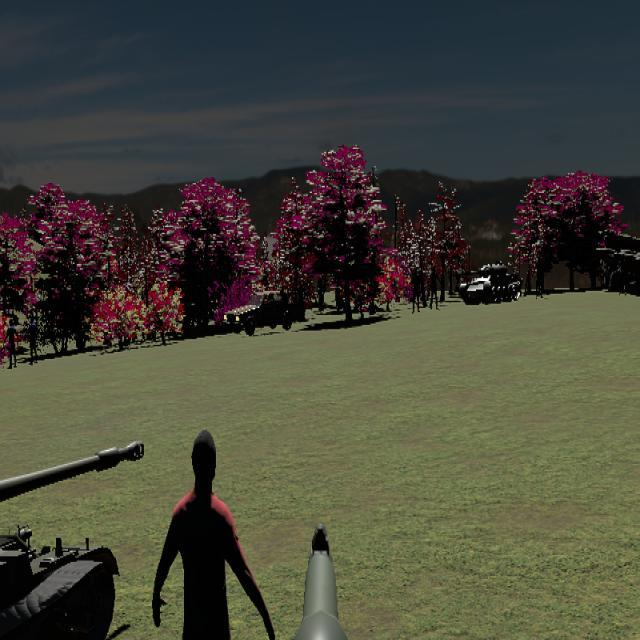Human: (149, 428, 284, 640)
Tank: (1, 435, 145, 640), (459, 259, 522, 305)
car: (224, 288, 305, 335)
